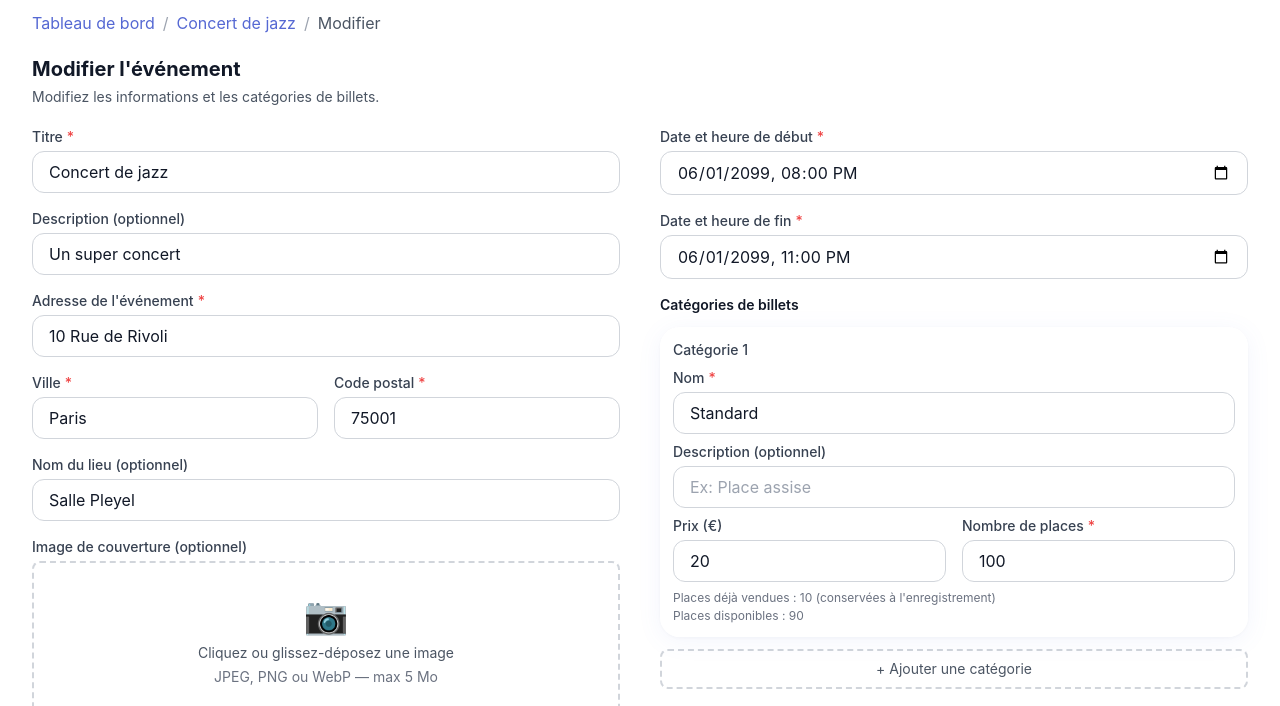
it: EventEditPage - professional event › requires an end date for a professional event
Expected: the heading "Modifier l'événement" is shown, top-left (32, 57), bottom-right (240, 81)
Clear the field labelled "Date et heure de fin*" at coordinates (954, 257), box top-left (660, 235), bottom-right (1248, 279)
(page scrolled)
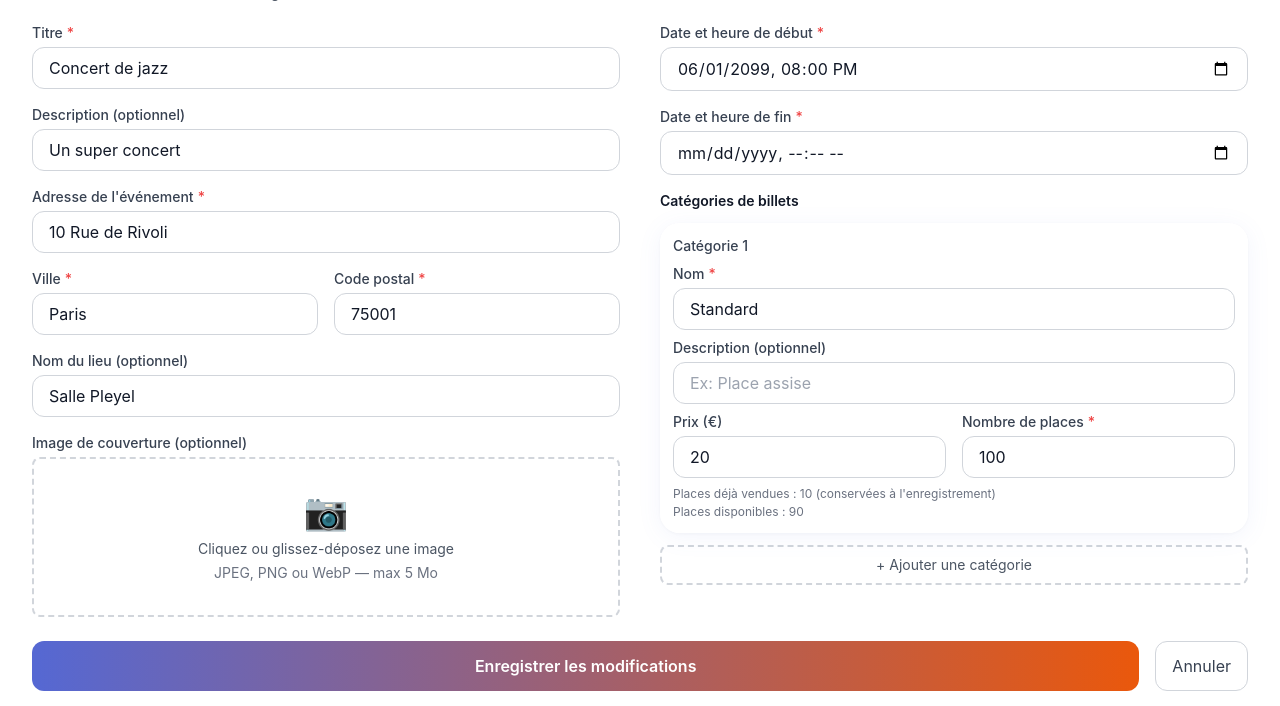
Click the button "Enregistrer les modifications" at coordinates (586, 666), box top-left (32, 641), bottom-right (1139, 691)
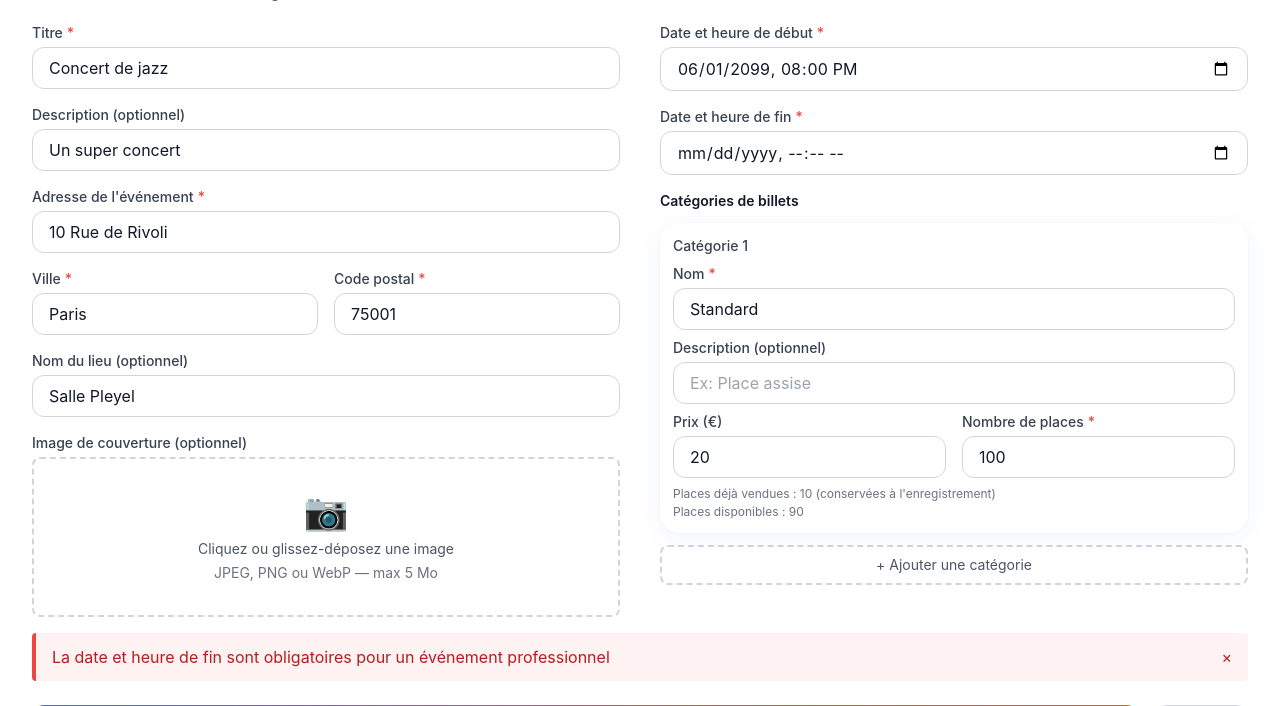
Now the text "La date et heure de fin sont obligatoires pour un événement professionnel" is shown, box top-left (52, 645), bottom-right (610, 669)
